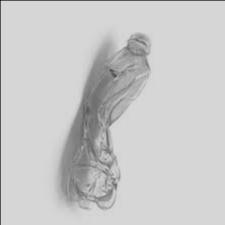Plastic: (55, 26, 167, 213)
